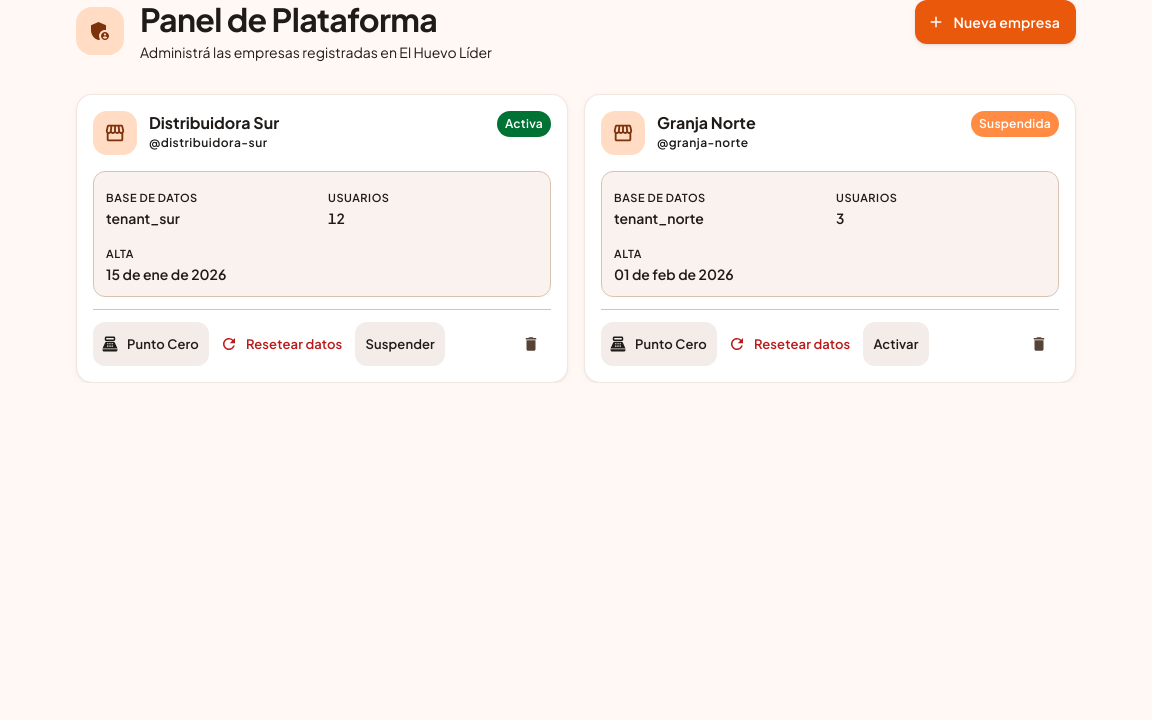
Test: PlatformTenantsPage — tenant manager › requires the exact slug before deleting a tenant
Later steps or results of the test are not shown.
Check: the text "Distribuidora Sur" is shown, box [149,112,279,133]
Click the button named "Eliminar Distribuidora Sur": (531, 344) [511,324,551,364]
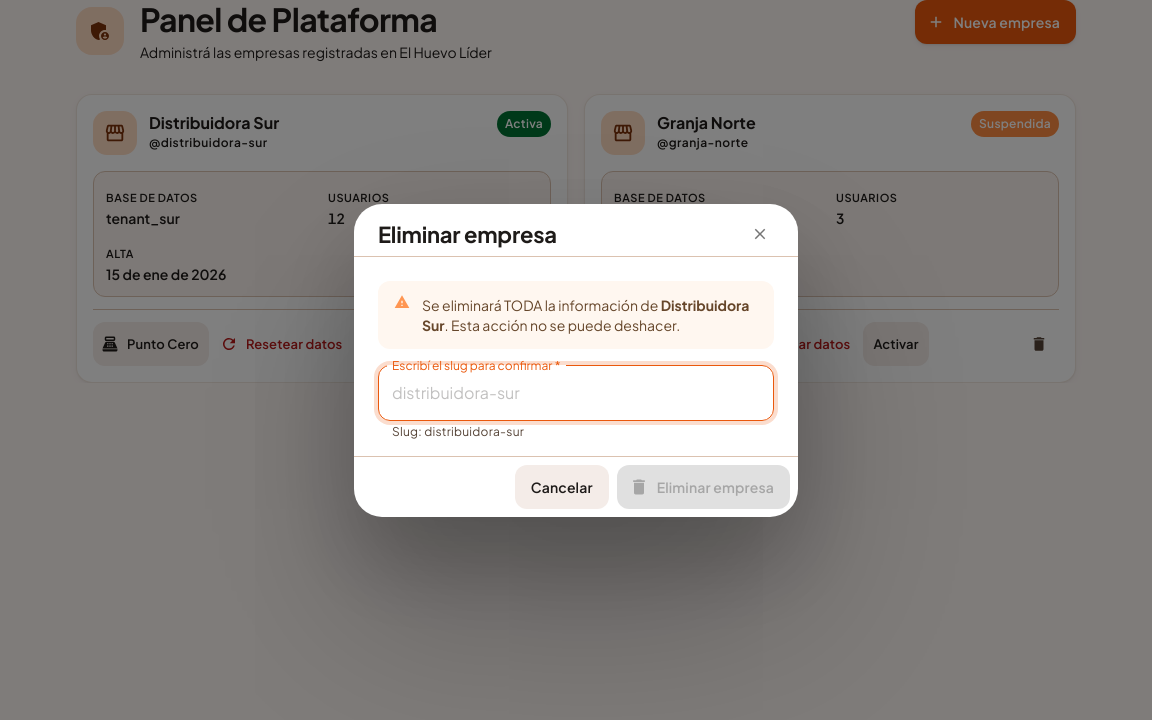
Check: the button "Eliminar empresa" is disabled, box [617,464,790,508]
In the field labelled "Escribí el slug para confirmar *": (576, 392) [378,364,774,420], type "wrong-slug"
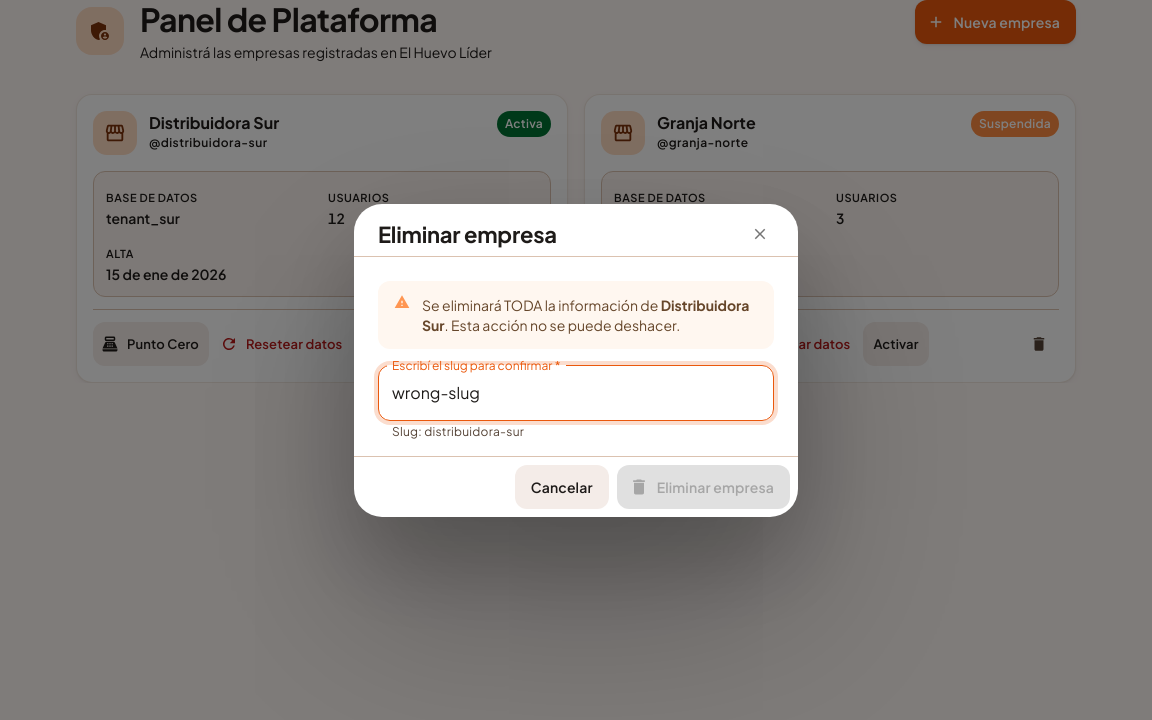
Check: the button "Eliminar empresa" is disabled, box [617,464,790,508]
Replace the text in the field labelled "Escribí el slug para confirmar *" with "distribuidora-sur": (576, 392) [378,364,774,420]
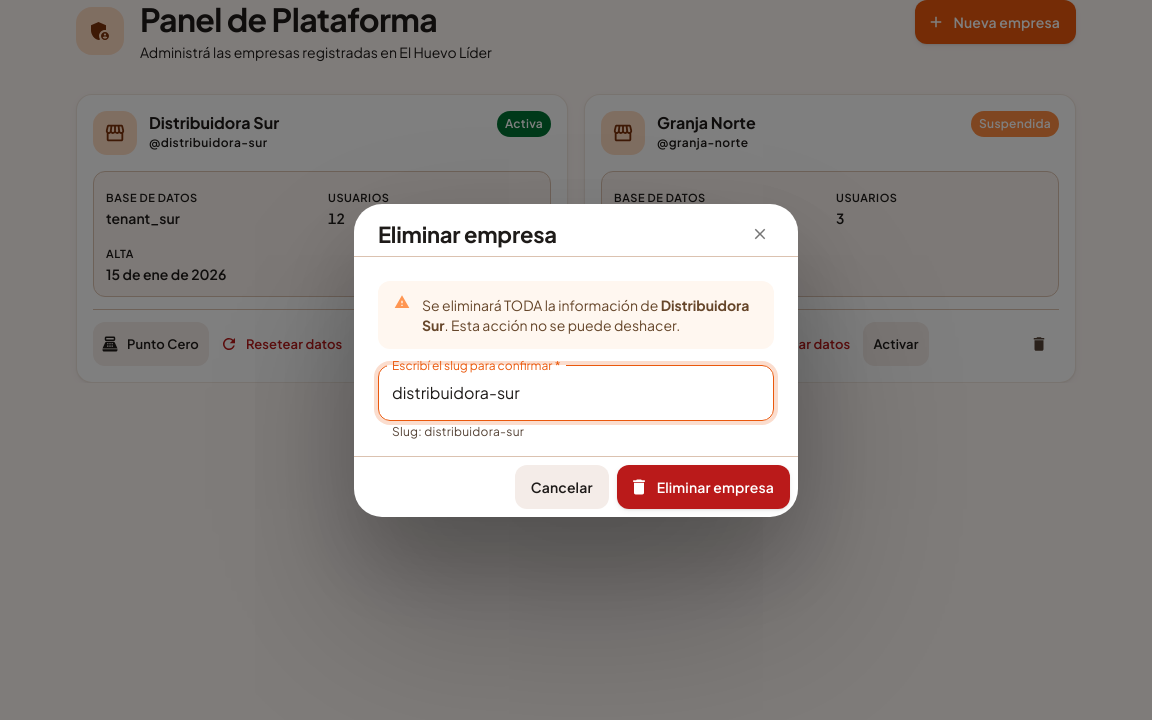
Check: the button "Eliminar empresa" is enabled, box [617,464,790,508]
